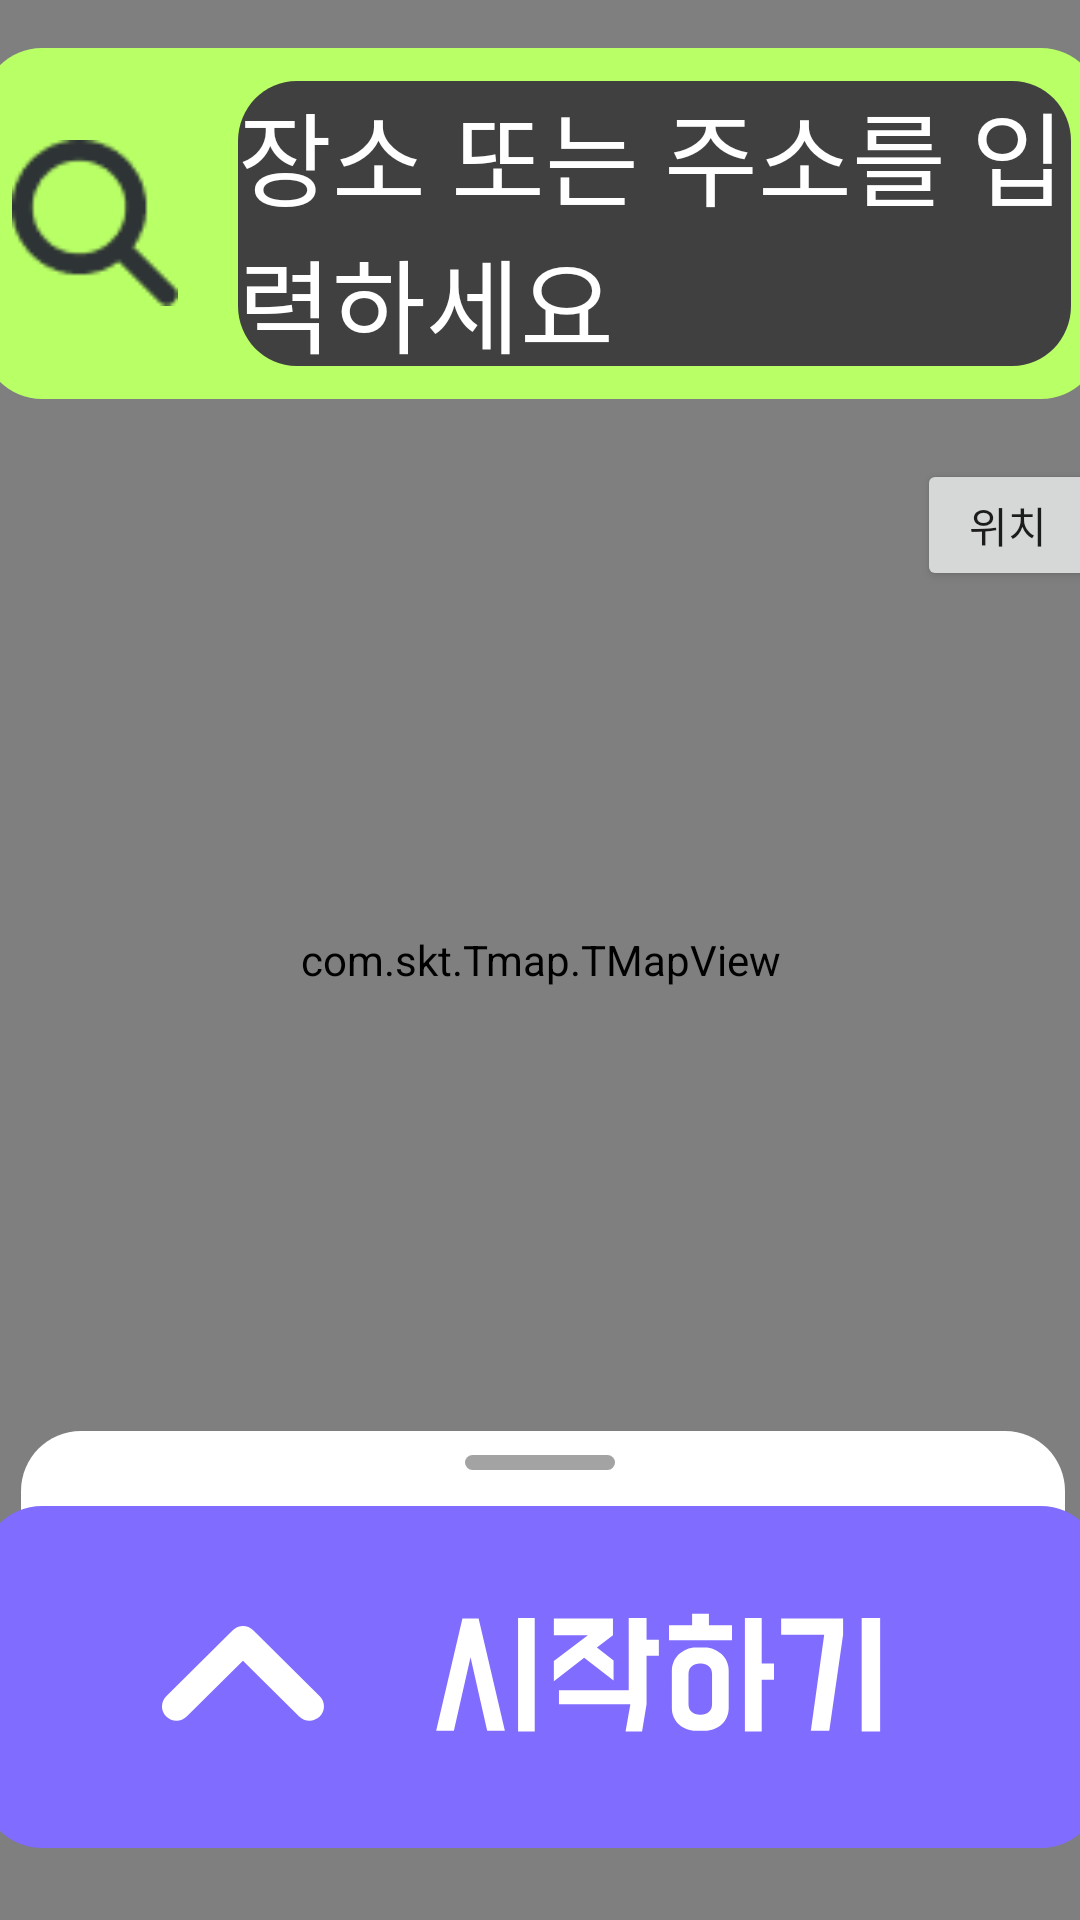

Where to tap for icons on this 1080×1920 app screen, as point (x, y):
lens: point (95, 223)
